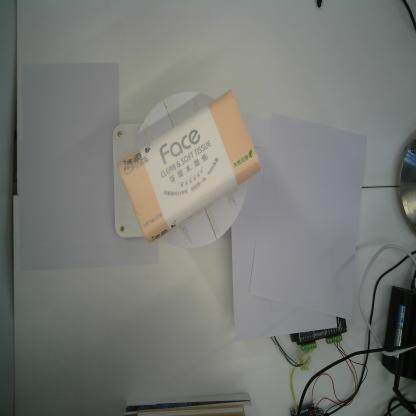Tissue: (118, 88, 261, 248)
